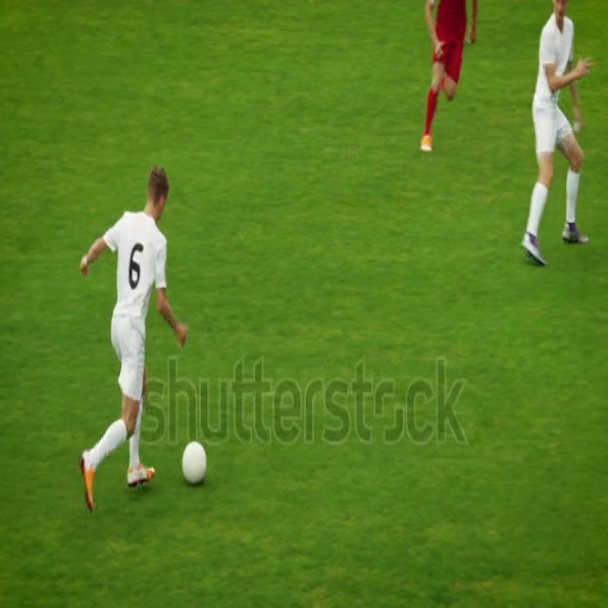ball: (178, 438, 210, 487)
